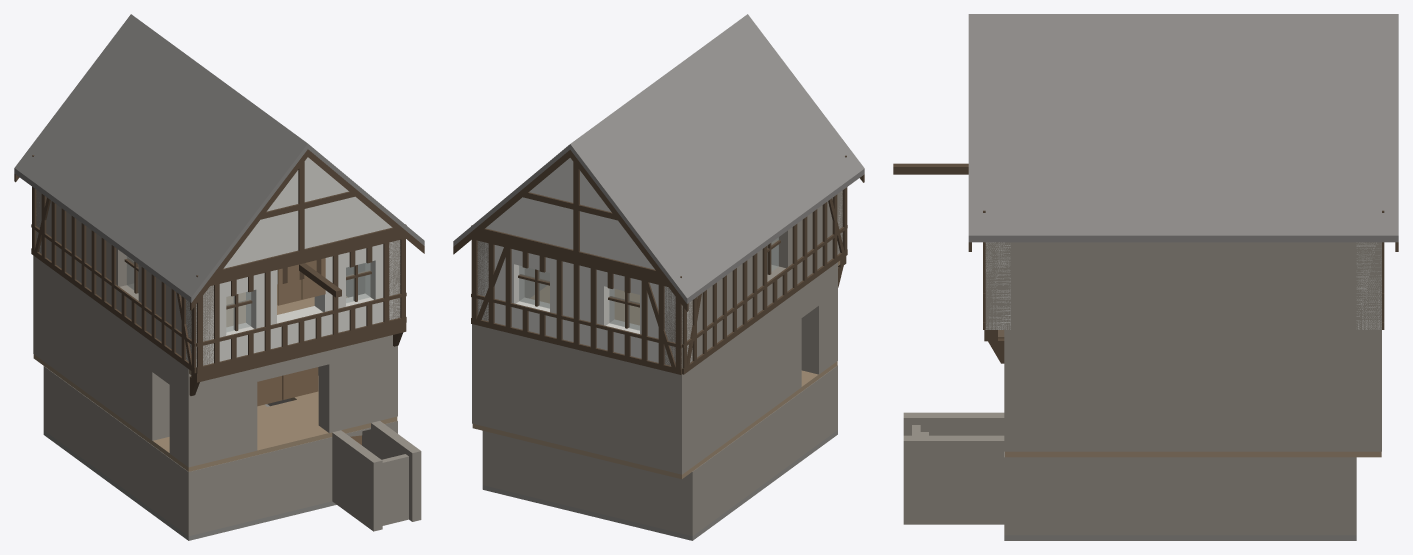
Rendered from corner-b.glb.
3 views of the same model, side by side, from view 1: azimuth 30°, elevation 25°; view 2: azimuth 150°, elevation 25°; view 3: azimuth 270°, elevation 25° (orthographic). The views are drawn at different scales.
Parts seen in each view (by area): view 1: stone, roof, timber, render, floor, glass, flags, corner-b-door-02 leaf, corner-b-shutter-01 leaf, corner-b-door-01 leaf, corner-b-shutter-02 leaf; view 2: stone, roof, timber, render, floor, glass, flags; view 3: stone, roof, floor, flags, timber, render.
Boxes of the visible parts, x1=… form: stone: x1=33, y1=190, x2=421, y2=536; roof: x1=14, y1=14, x2=424, y2=302; timber: x1=14, y1=149, x2=424, y2=395; render: x1=36, y1=157, x2=400, y2=366; floor: x1=33, y1=284, x2=397, y2=471; glass: x1=127, y1=256, x2=370, y2=332; flags: x1=43, y1=404, x2=336, y2=540; corner-b-door-02 leaf: x1=282, y1=367, x2=318, y2=399; corner-b-shutter-01 leaf: x1=277, y1=264, x2=301, y2=305; corner-b-door-01 leaf: x1=257, y1=376, x2=282, y2=406; corner-b-shutter-02 leaf: x1=301, y1=258, x2=325, y2=299; stone: x1=472, y1=190, x2=842, y2=536; roof: x1=453, y1=14, x2=864, y2=303; timber: x1=453, y1=150, x2=864, y2=374; render: x1=477, y1=158, x2=842, y2=366; floor: x1=472, y1=260, x2=840, y2=479; glass: x1=519, y1=237, x2=778, y2=330; flags: x1=482, y1=430, x2=837, y2=540; stone: x1=903, y1=242, x2=1381, y2=535; roof: x1=968, y1=14, x2=1398, y2=242; floor: x1=998, y1=330, x2=1381, y2=457; flags: x1=1004, y1=535, x2=1356, y2=540; timber: x1=893, y1=163, x2=1398, y2=363; render: x1=985, y1=242, x2=1381, y2=329.
Size of the model in its own units: 7.8 by 12.23 by 12.05.
